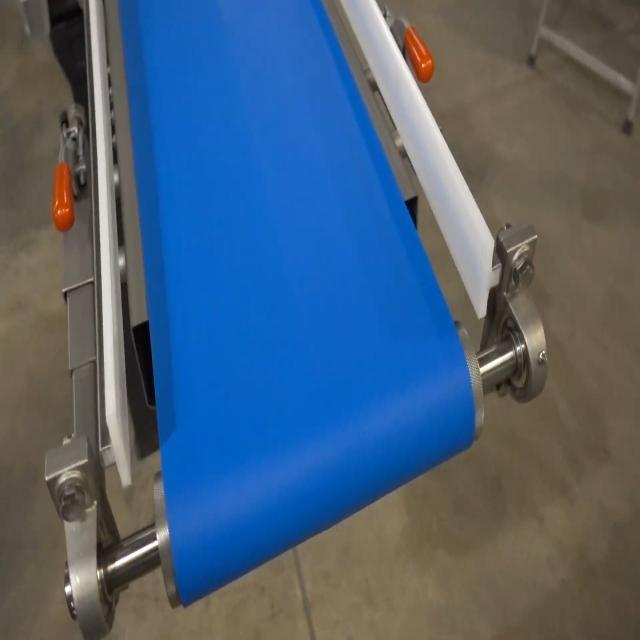Convoyeur: (47, 0, 549, 640)
